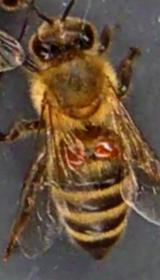varroa_mite: (90, 135, 116, 162), (59, 141, 85, 165)
